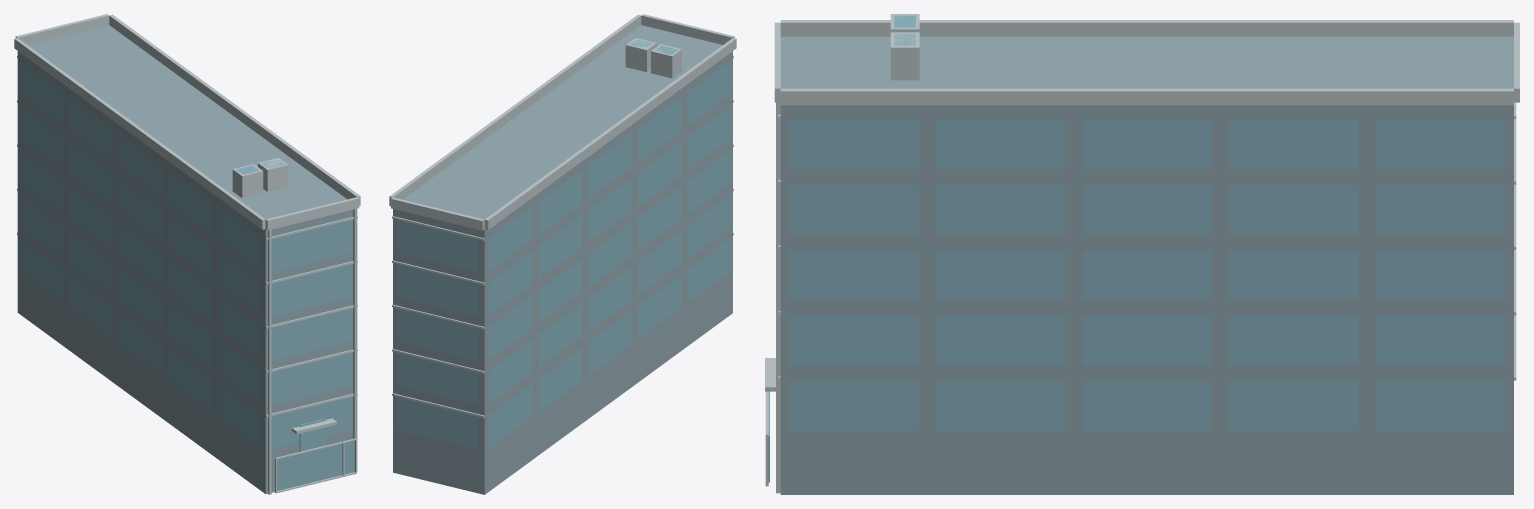
File: commercial_1x4_b.glb
3 renders of one model, left to right at view 1: azimuth 30°, elevation 25°; view 2: azimuth 150°, elevation 25°; view 3: azimuth 270°, elevation 25°, orthographic. The views are drawn at different scales.
Visible parts, largest first — view 1: commercial_1x4_b_0; view 2: commercial_1x4_b_0; view 3: commercial_1x4_b_0.
Boxes of the visible parts, bbox=[...] form: commercial_1x4_b_0: bbox=[14, 14, 360, 494]; commercial_1x4_b_0: bbox=[389, 14, 736, 494]; commercial_1x4_b_0: bbox=[765, 14, 1519, 494].
Size of the model in its own units: 7 by 19.5 by 31.4.
